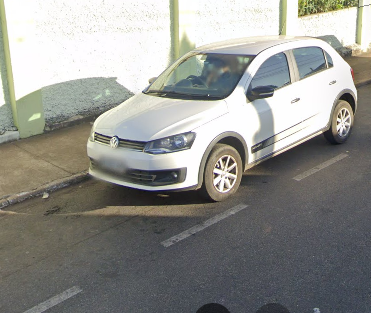car: (82, 17, 361, 208)
